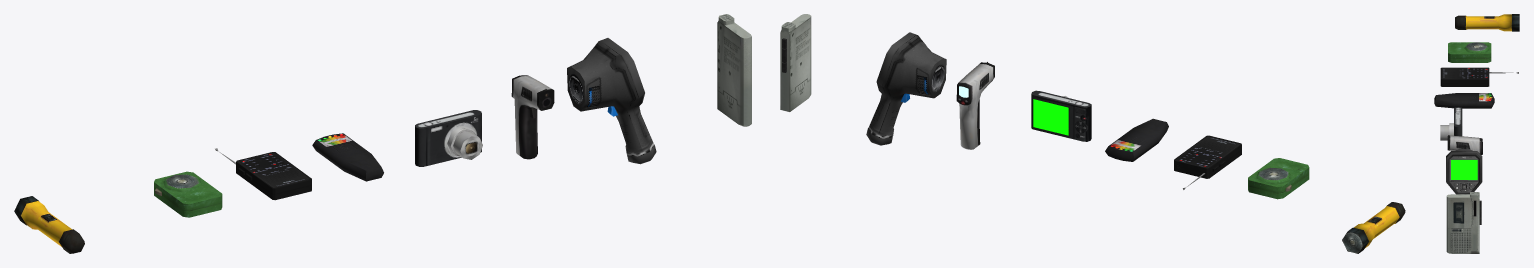
The model's file is exploration_objects.glb.
3 views of the same model, side by side, from view 1: azimuth 30°, elevation 25°; view 2: azimuth 150°, elevation 25°; view 3: azimuth 270°, elevation 25° (orthographic). The views are drawn at different scales.
Visible parts, largest first — view 1: Thermal_Camera, Voice_Recorder, Photo_Camera, Cone.001, Thermometer, Flashlight_Poquet, EMF_Detector, Flashlight; view 2: Thermal_Camera, Voice_Recorder, Photo_Camera, Thermometer, Cone.001, Flashlight_Poquet, EMF_Detector, Flashlight; view 3: Voice_Recorder, Thermal_Camera, Cone.001, Flashlight, Flashlight_Poquet, EMF_Detector, Thermometer, Photo_Camera.
Part boxes in pixels (x1=…): Thermal_Camera: x1=567, y1=38, x2=656, y2=164; Voice_Recorder: x1=717, y1=14, x2=751, y2=126; Photo_Camera: x1=415, y1=110, x2=482, y2=166; Cone.001: x1=215, y1=148, x2=311, y2=200; Thermometer: x1=511, y1=75, x2=554, y2=159; Flashlight_Poquet: x1=154, y1=171, x2=222, y2=217; EMF_Detector: x1=312, y1=133, x2=383, y2=181; Flashlight: x1=14, y1=196, x2=84, y2=253; Thermal_Camera: x1=866, y1=32, x2=946, y2=145; Voice_Recorder: x1=780, y1=14, x2=811, y2=111; Photo_Camera: x1=1031, y1=90, x2=1091, y2=141; Thermometer: x1=956, y1=62, x2=994, y2=149; Cone.001: x1=1174, y1=135, x2=1241, y2=189; Flashlight_Poquet: x1=1248, y1=158, x2=1309, y2=199; EMF_Detector: x1=1105, y1=118, x2=1168, y2=161; Flashlight: x1=1342, y1=202, x2=1405, y2=253; Voice_Recorder: x1=1446, y1=192, x2=1481, y2=253; Thermal_Camera: x1=1446, y1=149, x2=1482, y2=194; Cone.001: x1=1440, y1=67, x2=1518, y2=86; Flashlight: x1=1455, y1=14, x2=1519, y2=31; Flashlight_Poquet: x1=1448, y1=42, x2=1491, y2=62; EMF_Detector: x1=1434, y1=93, x2=1494, y2=108; Thermometer: x1=1447, y1=135, x2=1482, y2=154; Photo_Camera: x1=1440, y1=107, x2=1462, y2=140.
Size of the model in its own units: 1.9 by 0.3223 by 0.3252.
Materials: 9 (8 with a texture image).
